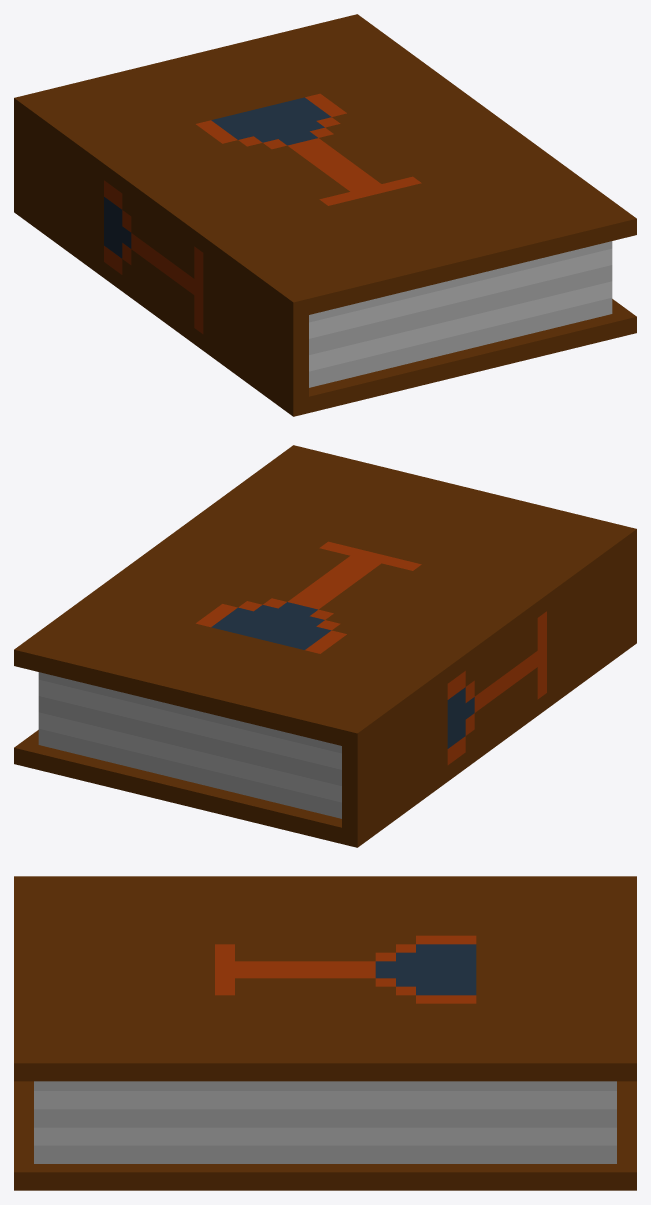
Rendered from Drinks_Book.obj.
3 views of the same model, one above another, from view 1: azimuth 30°, elevation 25°; view 2: azimuth 150°, elevation 25°; view 3: azimuth 270°, elevation 25° (orthographic). The views are drawn at different scales.
Size of the model in its own units: 2.2 by 0.7 by 3.1.
Materials: 1 (1 with a texture image).
